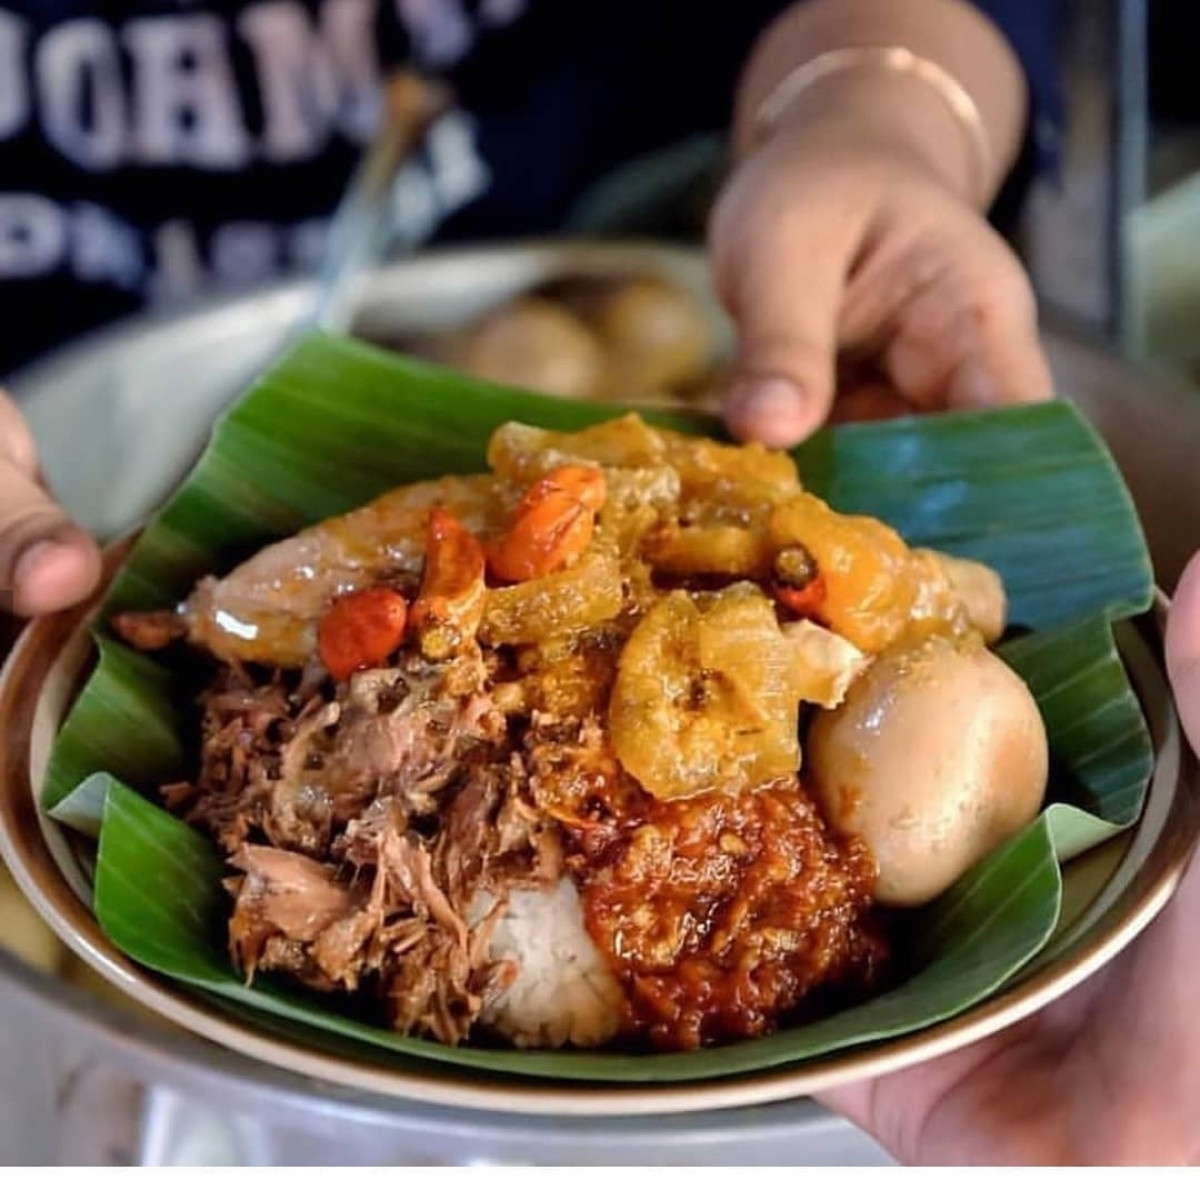gudeg: (175, 418, 1053, 1051)
